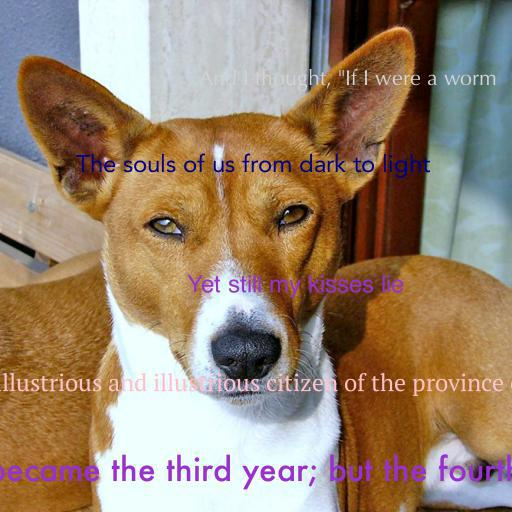Avenir: (76, 153, 430, 178)
Futura: (0, 454, 512, 490)
Optima: (199, 68, 497, 91)
PT Serif: (0, 373, 512, 396)
SignPainter: (186, 275, 404, 298)
